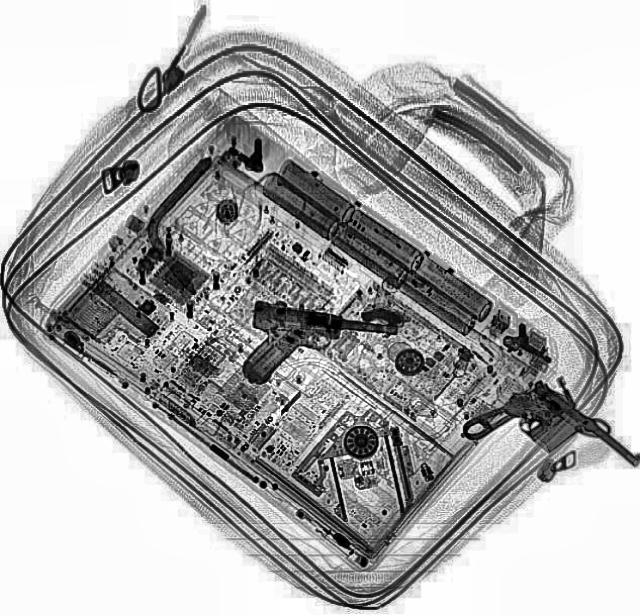Gun: (453, 363, 639, 523), (238, 296, 398, 398)
